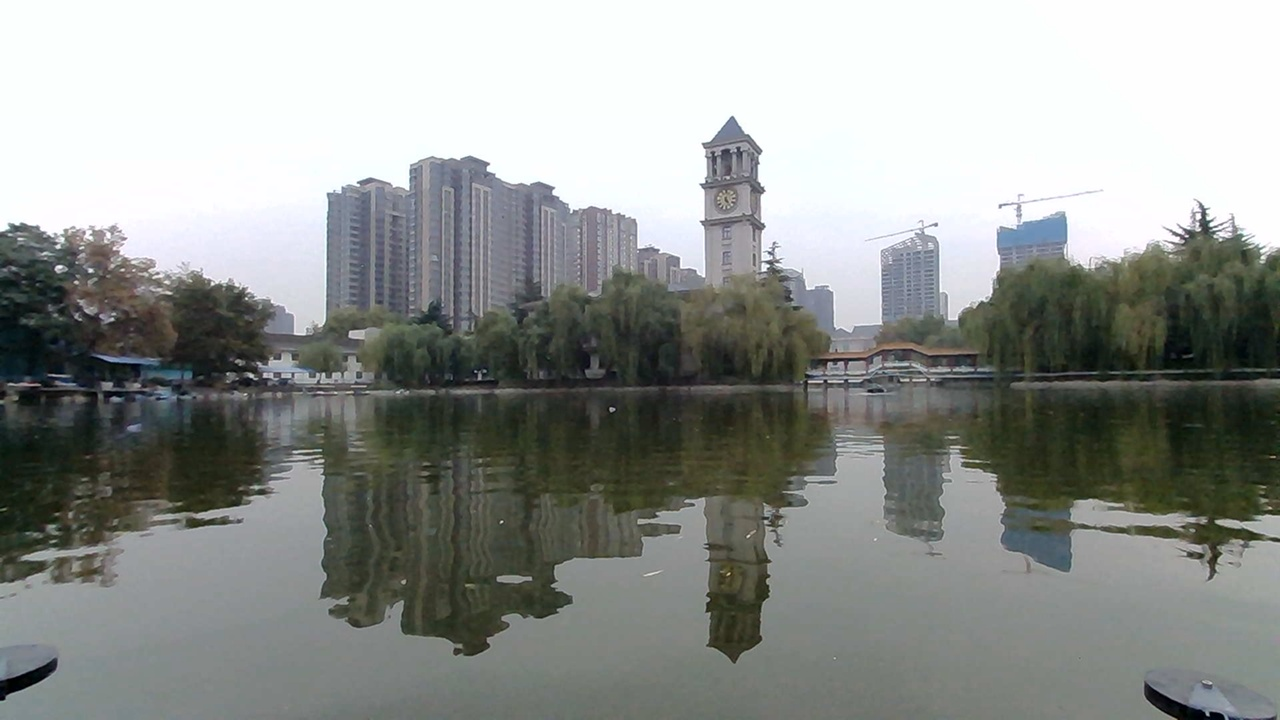bottle: (117, 420, 161, 451), (596, 390, 628, 417)
